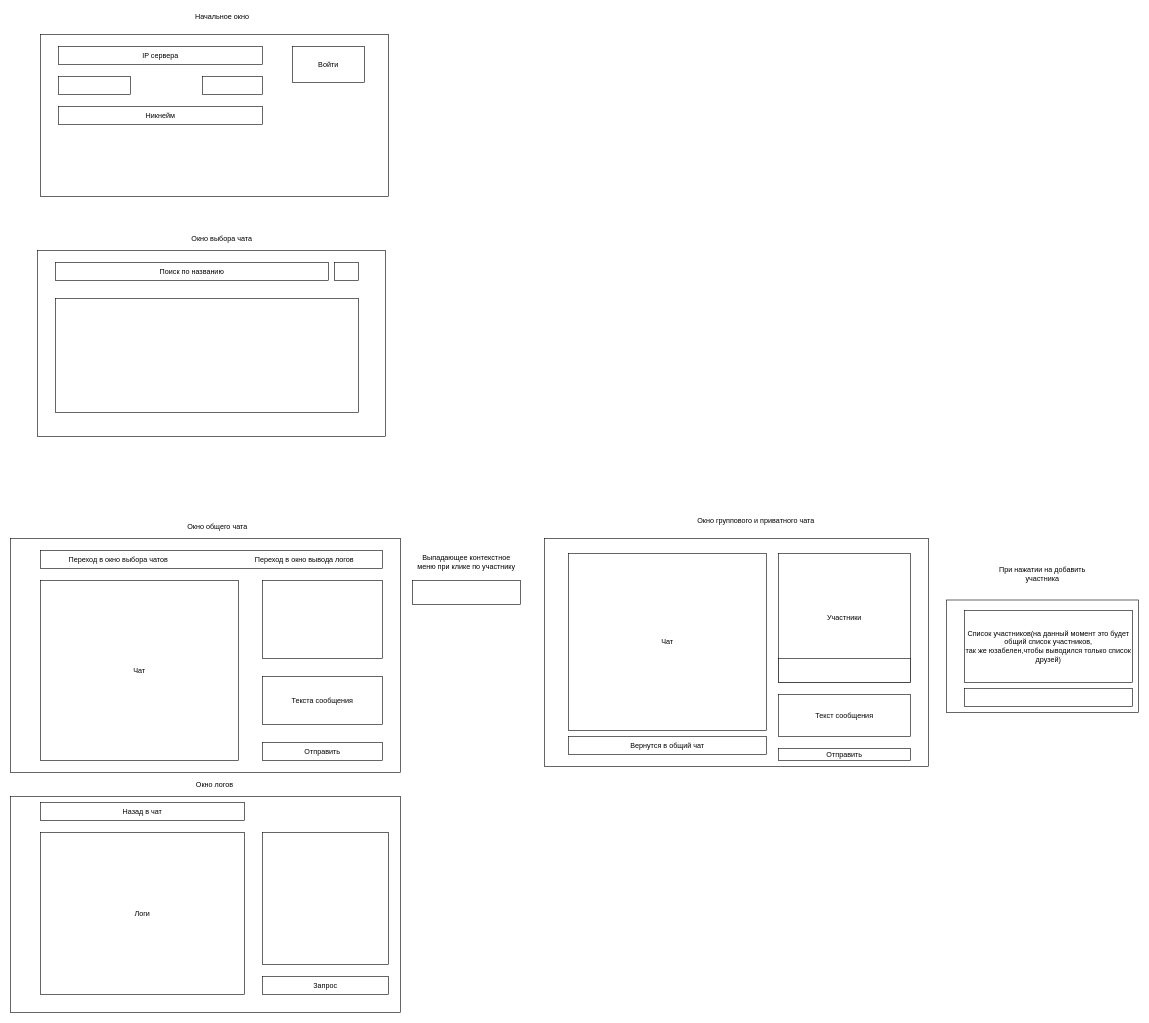
Image size: 1149x1023. Some labels were removed from this diagram. Here are the shapes that lost their labels. From the top down, the centre of each, then its label:
At (94,85): "Интерфейс".
At (232,85): "Порт".
At (206,355): "Список доступных чатов".
At (466,592): "Перейти в приватный диалог Создать групповой диалог".
At (322,619): "Список участников".
At (844,670): "Добавить участника".
At (1048,697): "Добавить".
At (325,898): "Критерии поиска логов".
